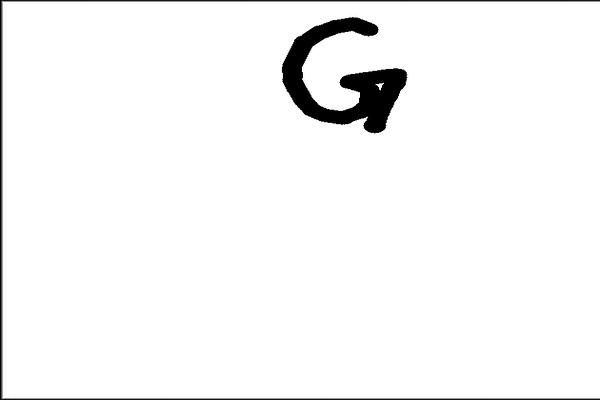G: (277, 13, 409, 137)
